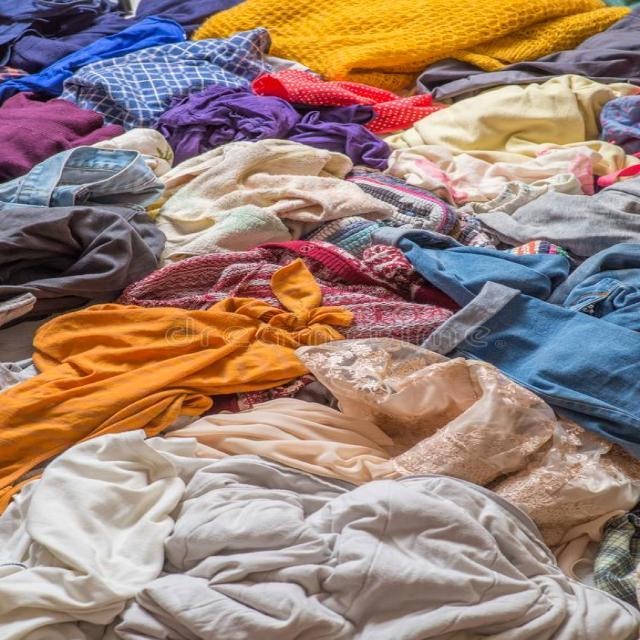clothes: (4, 0, 640, 640), (6, 437, 640, 640), (0, 275, 326, 528), (211, 350, 640, 522), (167, 0, 640, 103), (408, 239, 640, 442), (392, 72, 640, 238)
